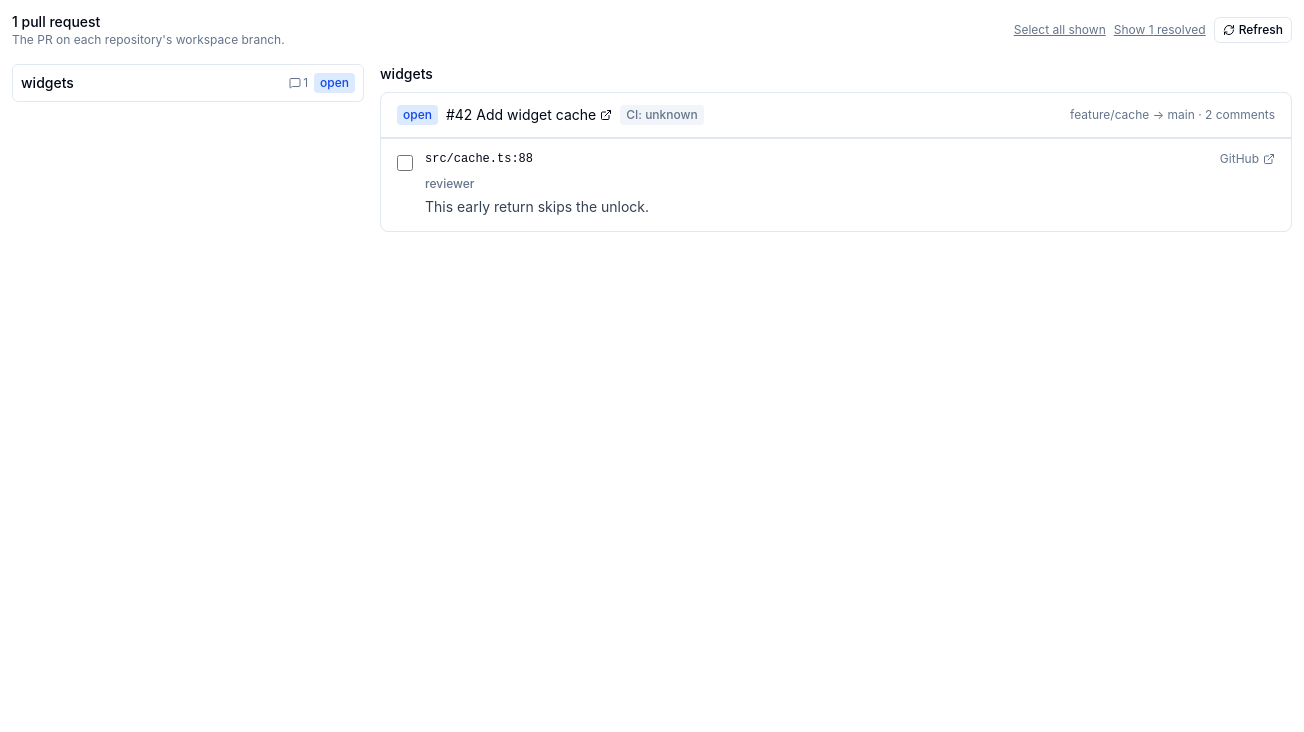
Test: PullRequestsView › triages a repository while another repository's operation runs, but does not validate
Step 1. Click the checkbox named "src/cache.ts:88" → (405, 163), box [397,155,413,171]
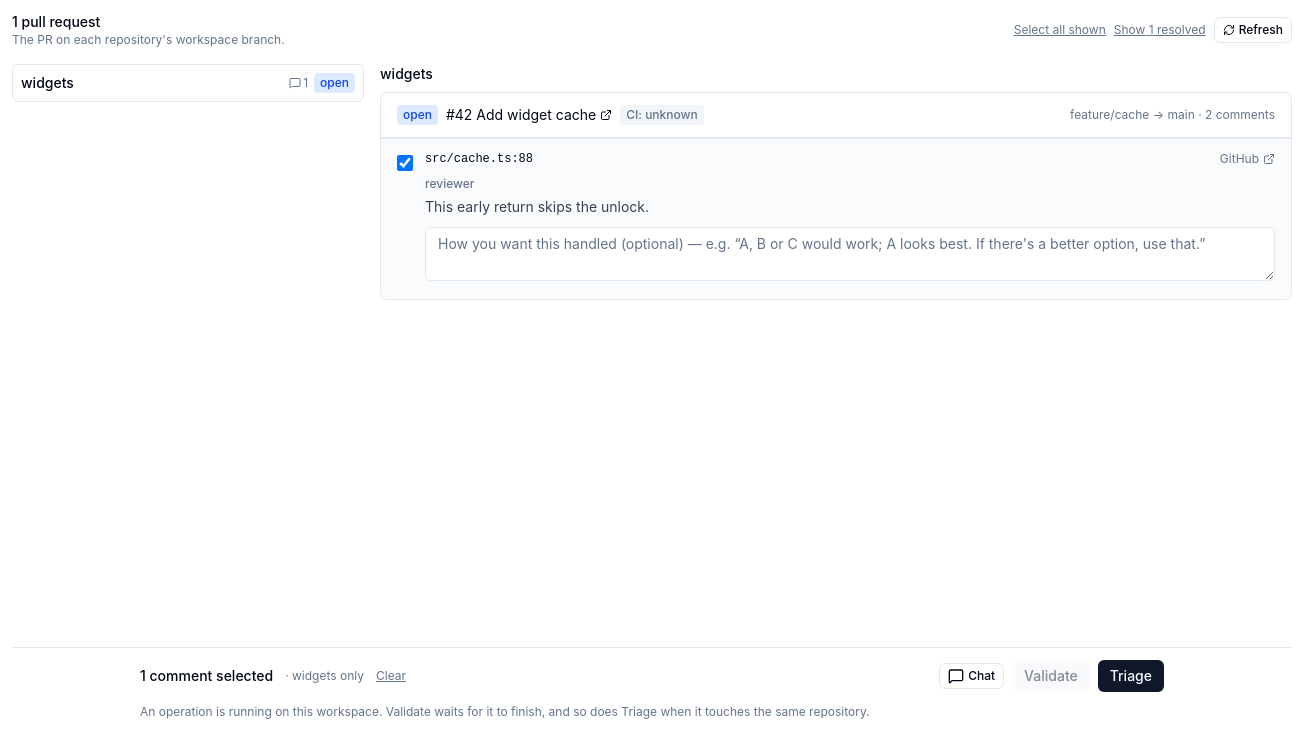
Expected: the button "Triage" is enabled, [1098,660,1164,692]
Expected: the button "Validate" is disabled, [1012,660,1090,692]
